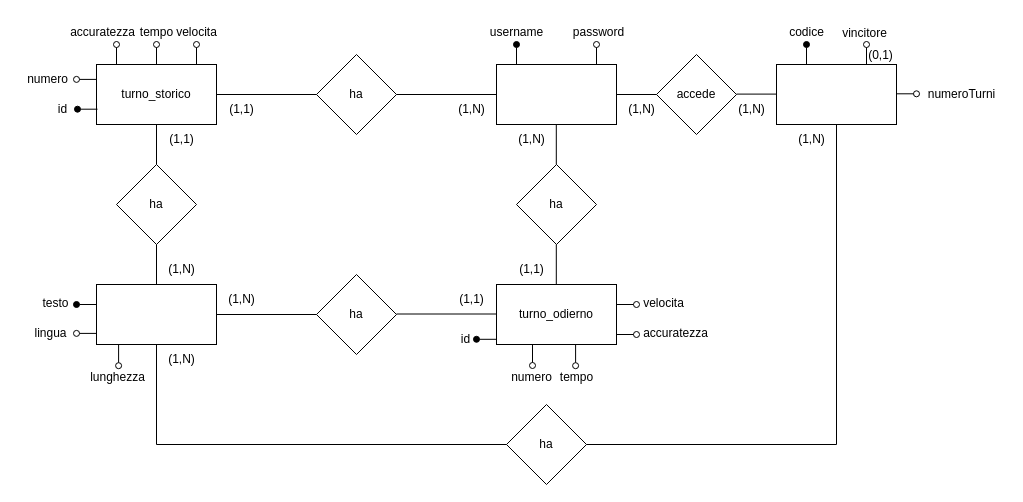
Image size: 1023x502. Some labels were removed from this diagram. Here are the shapes that lost their labels. From the top down, the box of each, then its label:
(496, 64, 616, 124): utente
(776, 64, 896, 124): stanza
(96, 284, 216, 344): frase
